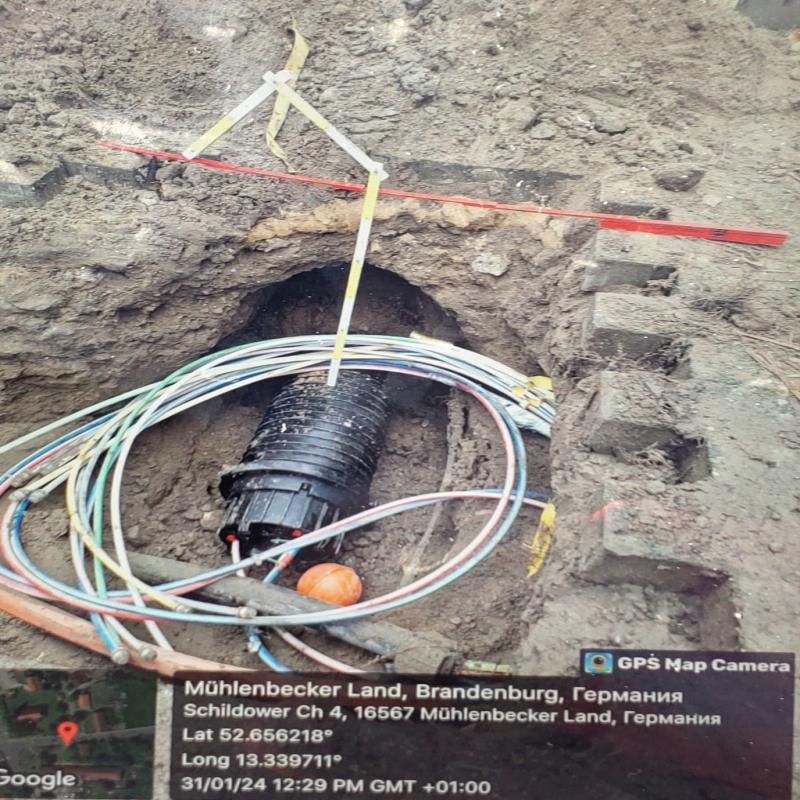Kugelmarker: (297, 564, 360, 605)
NT-Muffen: (214, 370, 403, 568)
